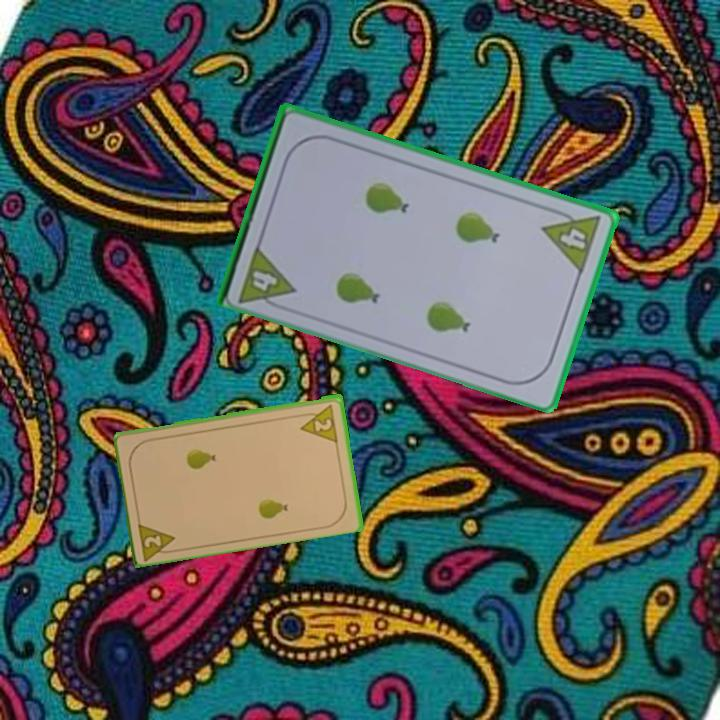2p: (135, 517, 181, 561), (296, 400, 341, 444)
4p: (539, 203, 604, 276), (235, 240, 298, 314)
